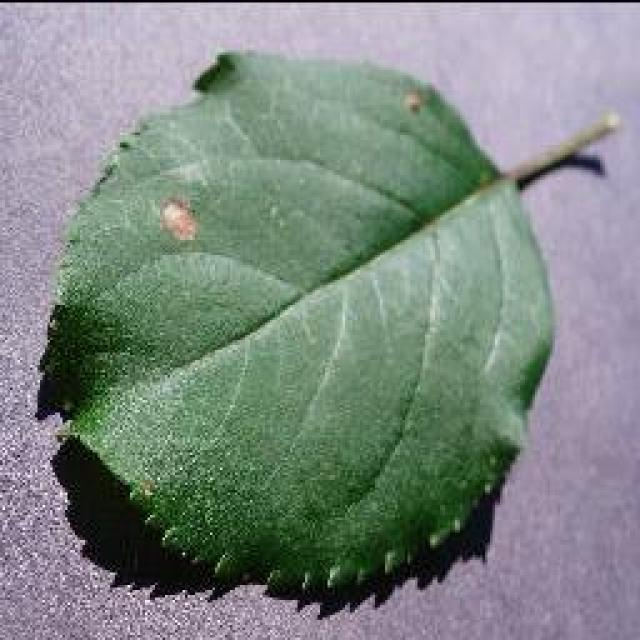Black_rot: (32, 45, 612, 605)
